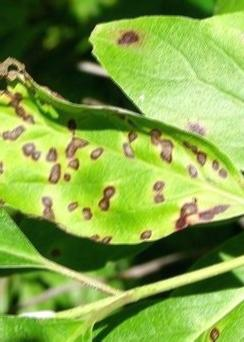Tomato leaf bacterial spot: (0, 40, 244, 254), (73, 2, 244, 181)
